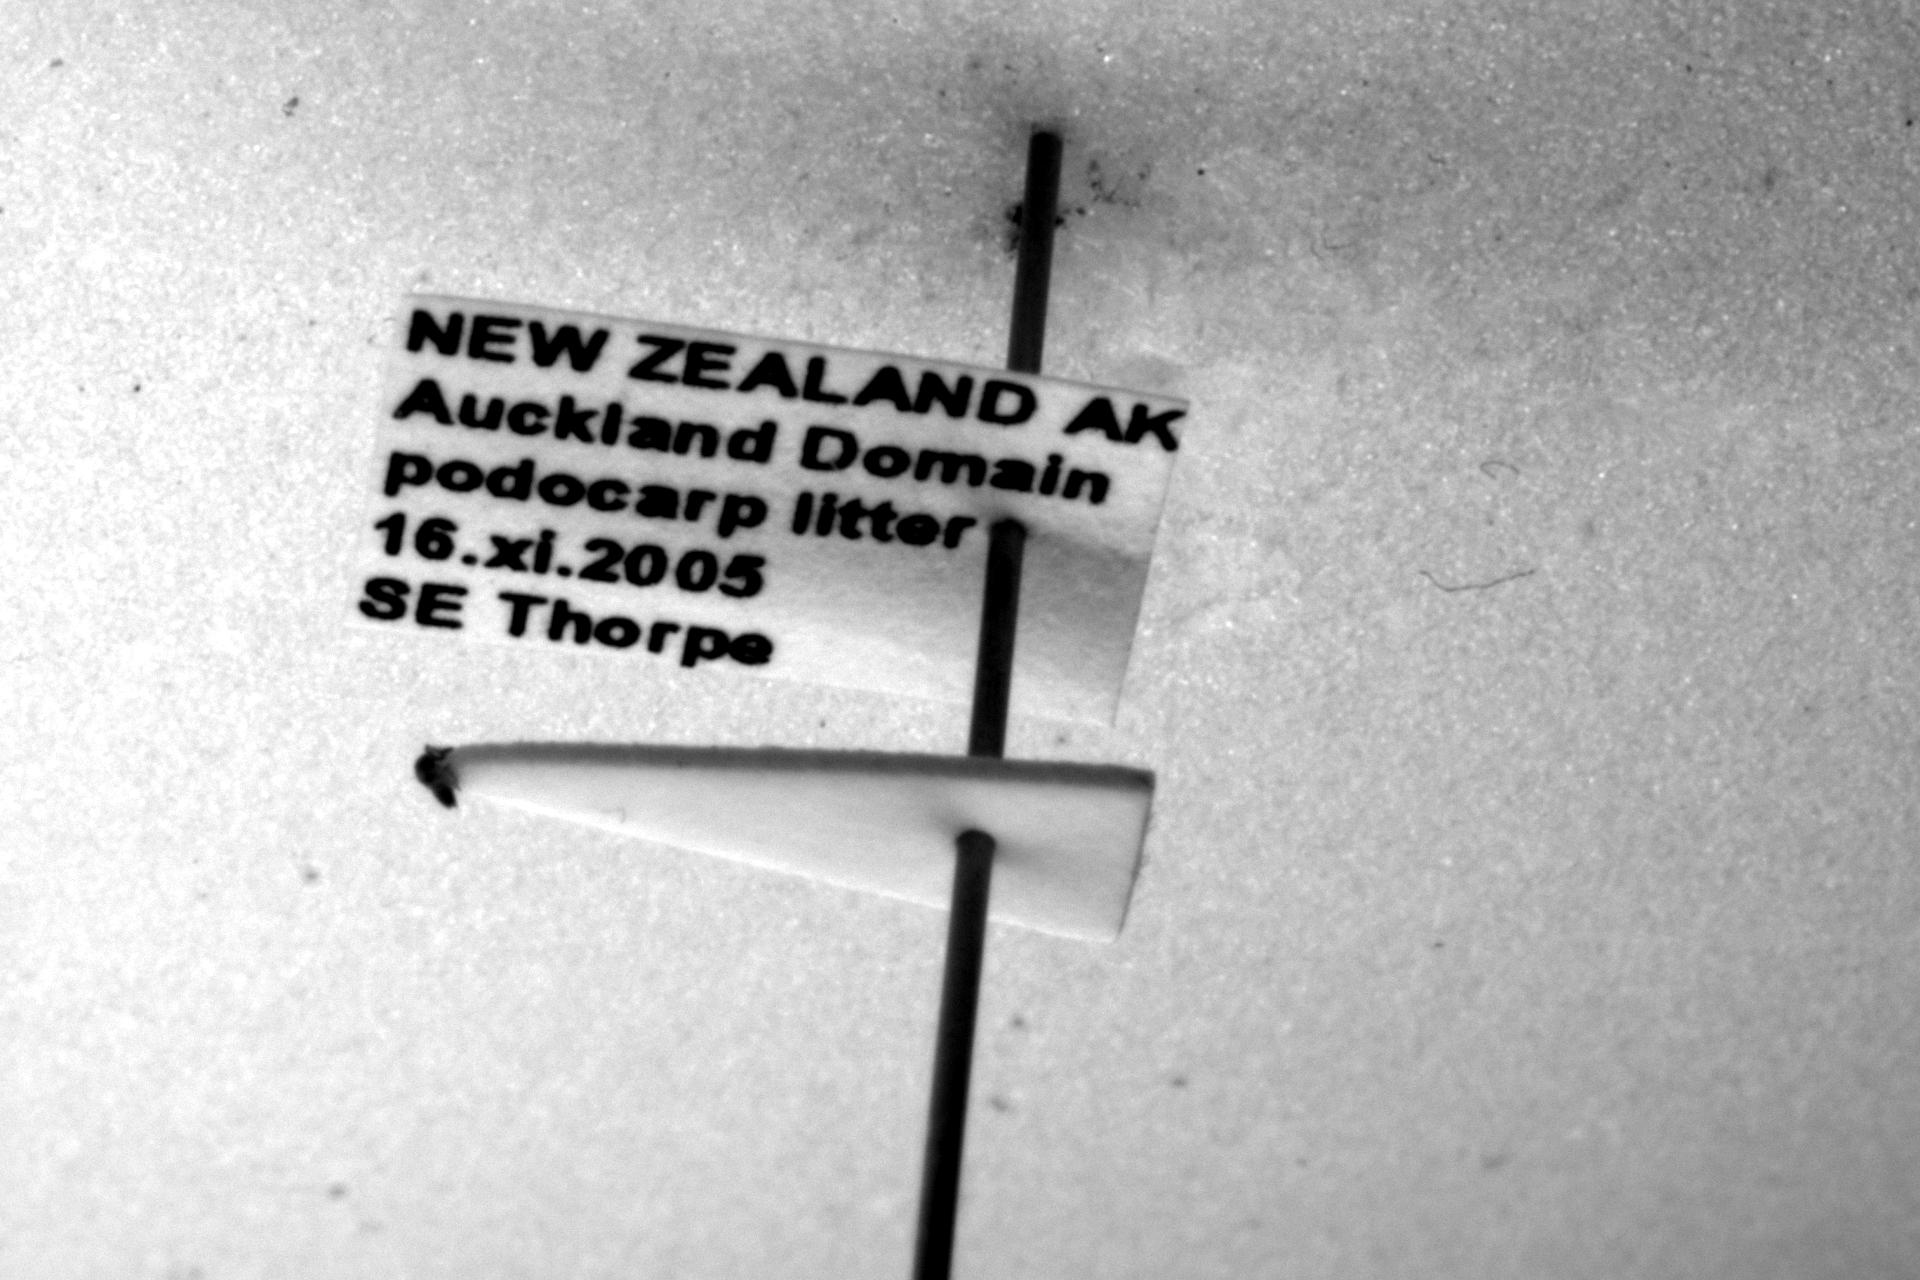typed_label: (349, 296, 1186, 724)
